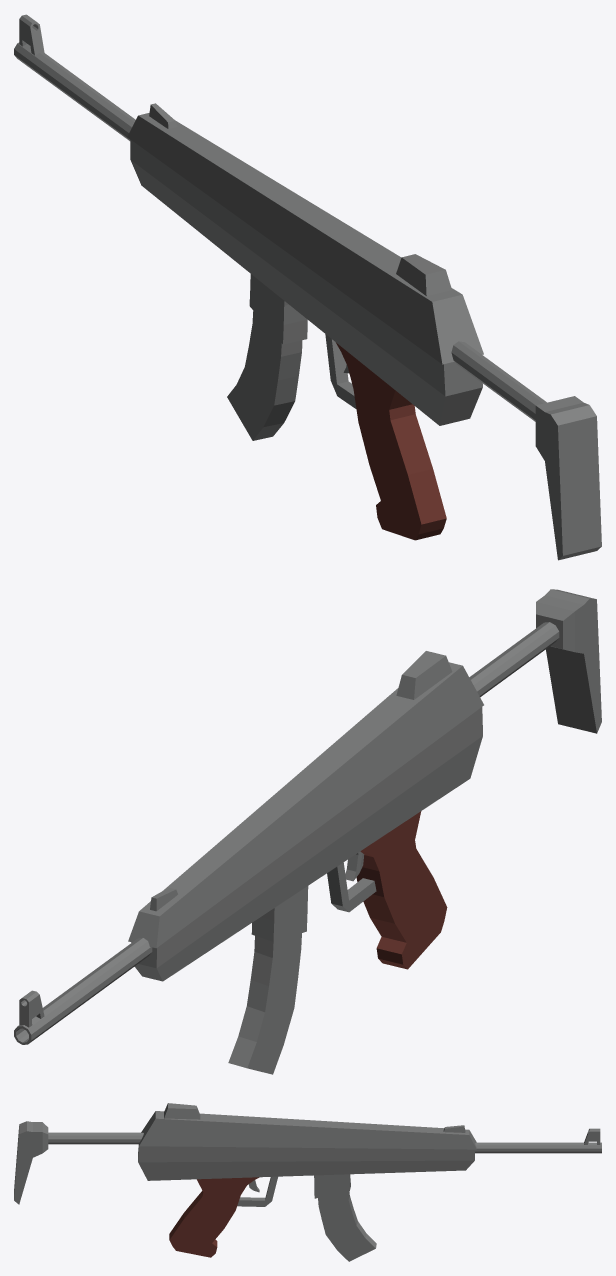
The model's file is SMG.fbx.
3 renders of one model, top to bottom at view 1: azimuth 30°, elevation 25°; view 2: azimuth 150°, elevation 25°; view 3: azimuth 270°, elevation 25°, orthographic. The views are drawn at different scales.
Parts seen in each view (by area): view 1: Top.001, bot, Bottom.001, foot dood, Magazines, nozzle.002, back nozzle, back stub, Shooty thing.005, Nozzle hat.002; view 2: Top.001, bot, Bottom.001, Magazines, foot dood, nozzle.002, back nozzle, Shooty thing.005, back stub, Nozzle hat.002; view 3: bot, Top.001, Bottom.001, Magazines, foot dood, nozzle.002, back nozzle, Shooty thing.005, back stub.
Boxes of the visible parts, bbox=[...] form: Top.001: bbox=[127, 112, 483, 364]; bot: bbox=[130, 139, 482, 425]; Bottom.001: bbox=[336, 342, 446, 540]; foot dood: bbox=[535, 396, 601, 560]; Magazines: bbox=[227, 274, 307, 440]; nozzle.002: bbox=[14, 42, 135, 140]; back nozzle: bbox=[451, 341, 546, 421]; back stub: bbox=[396, 254, 451, 296]; Shooty thing.005: bbox=[325, 334, 356, 408]; Nozzle hat.002: bbox=[19, 14, 44, 55]; Top.001: bbox=[128, 662, 483, 948]; bot: bbox=[131, 707, 482, 981]; Bottom.001: bbox=[356, 811, 447, 969]; Magazines: bbox=[228, 886, 308, 1074]; foot dood: bbox=[536, 589, 601, 733]; nozzle.002: bbox=[14, 938, 152, 1044]; back nozzle: bbox=[469, 622, 559, 697]; Shooty thing.005: bbox=[327, 851, 376, 912]; back stub: bbox=[396, 651, 452, 699]; Nozzle hat.002: bbox=[19, 990, 44, 1027]; bot: bbox=[138, 1144, 474, 1180]; Top.001: bbox=[139, 1111, 476, 1149]; Bottom.001: bbox=[169, 1177, 259, 1257]; Magazines: bbox=[314, 1174, 376, 1261]; foot dood: bbox=[14, 1121, 48, 1204]; nozzle.002: bbox=[474, 1142, 601, 1153]; back nozzle: bbox=[48, 1132, 143, 1144]; Shooty thing.005: bbox=[237, 1176, 277, 1206]; back stub: bbox=[164, 1103, 200, 1119].
Bounding box in the file's own units: 4.2 × 28.2 × 97.71.
